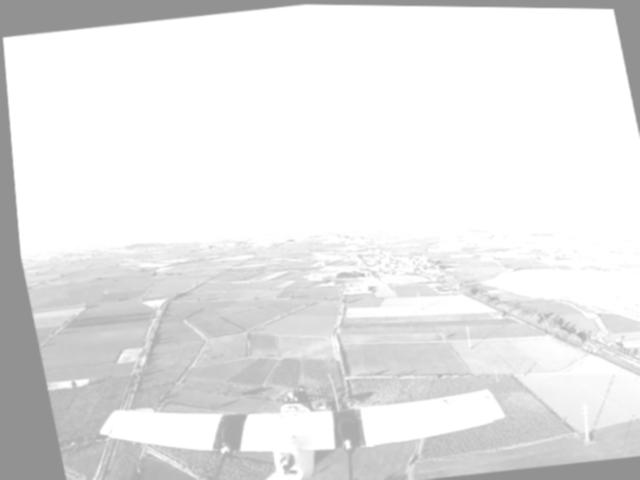hedef: (62, 329, 493, 480)
